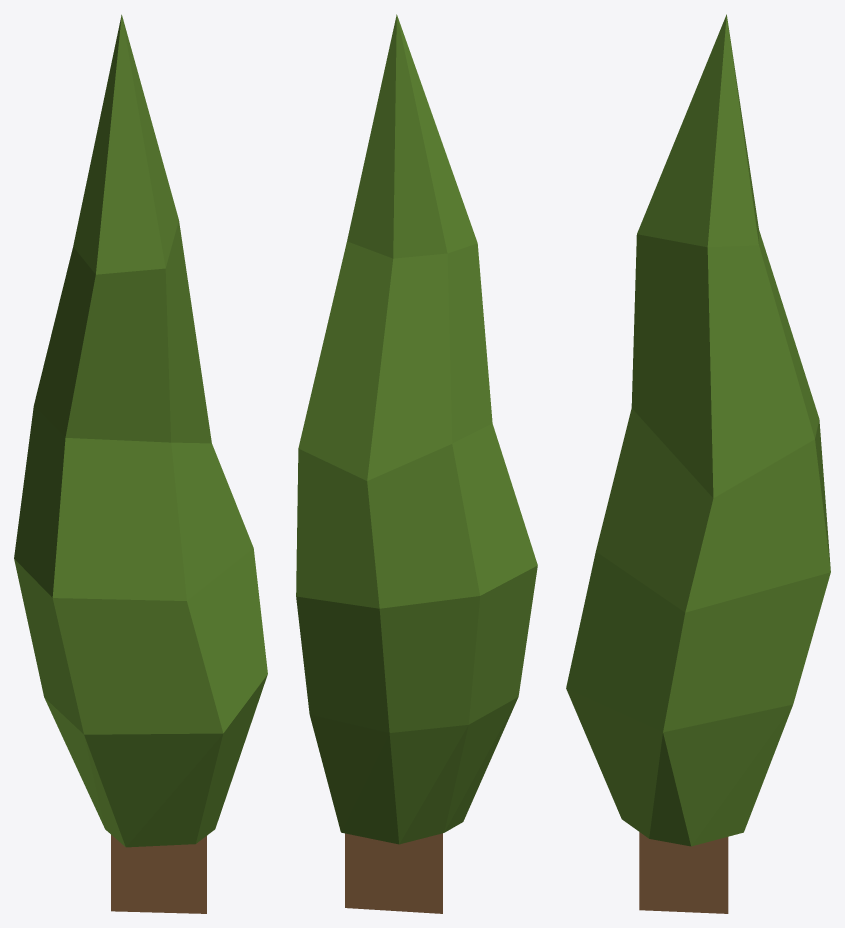
The model's file is ThuiaTree1.fbx.
3 renders of one model, left to right at view 1: azimuth 30°, elevation 25°; view 2: azimuth 150°, elevation 25°; view 3: azimuth 270°, elevation 25°, orthographic. The views are drawn at different scales.
Visible parts, largest first — view 1: Cube; view 2: Cube; view 3: Cube.
Part boxes in pixels (left/top/right/bottom): Cube: left=14, top=14, right=267, bottom=913; Cube: left=296, top=14, right=537, bottom=913; Cube: left=566, top=14, right=830, bottom=913.
Size of the model in its own units: 148 by 573 by 157.
